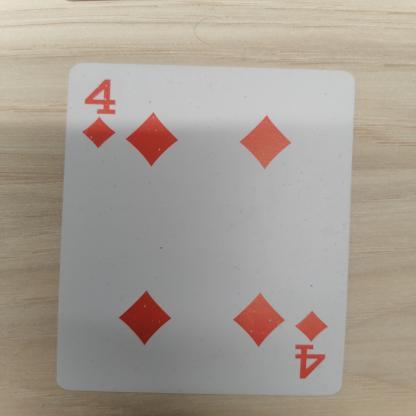4D: (74, 74, 132, 156), (290, 302, 341, 393)
